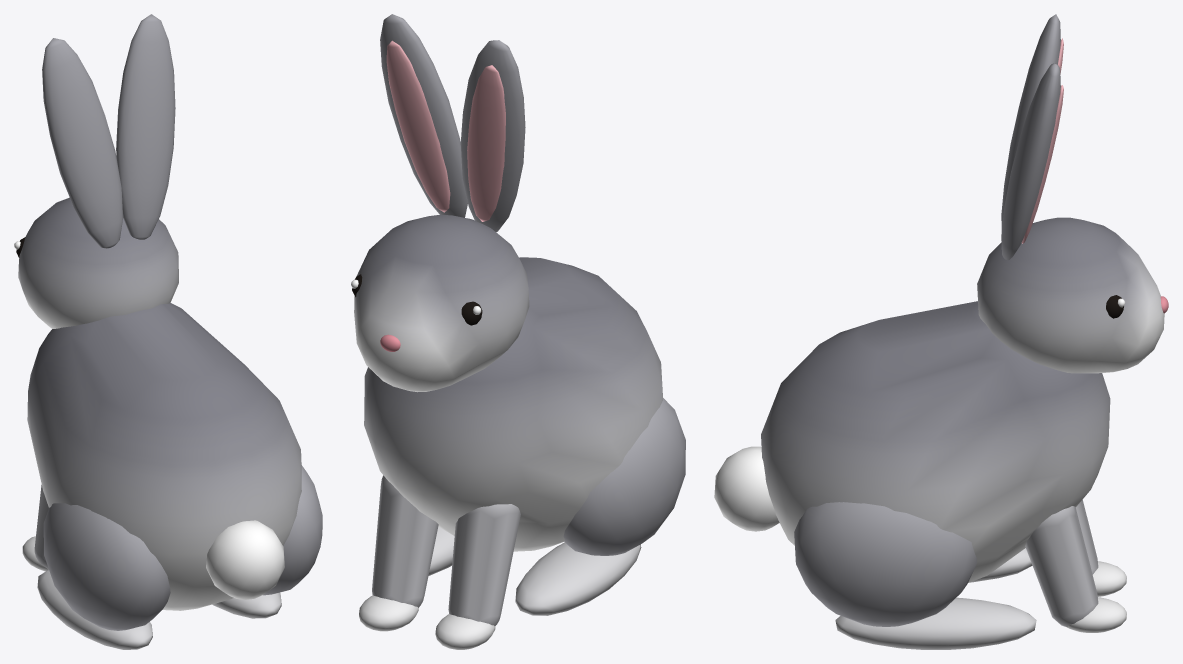
File: Rabbit.glb
3 renders of one model, left to right at view 1: azimuth 30°, elevation 25°; view 2: azimuth 150°, elevation 25°; view 3: azimuth 270°, elevation 25°, orthographic. The views are drawn at different scales.
Parts seen in each view (by area): view 1: Body, Head, Tail, LegFL; view 2: Body, Head, LegFL, LegFR; view 3: Body, Head, LegFR, Tail, LegFL.
Boxes of the visible parts, <box> form: Body: <box>27,303,322,649</box>; Head: <box>14,14,178,328</box>; Tail: <box>206,520,284,599</box>; LegFL: <box>22,485,48,571</box>; Body: <box>364,257,685,615</box>; Head: <box>351,14,529,392</box>; LegFL: <box>435,504,520,649</box>; LegFR: <box>359,475,438,631</box>; Body: <box>761,301,1110,649</box>; Head: <box>977,14,1168,373</box>; LegFR: <box>1025,506,1126,632</box>; Tail: <box>714,446,779,531</box>; LegFL: <box>1076,500,1126,596</box>.
Size of the model in its own units: 2.11 by 4.45 by 3.2.
1 material, 1 textured.
